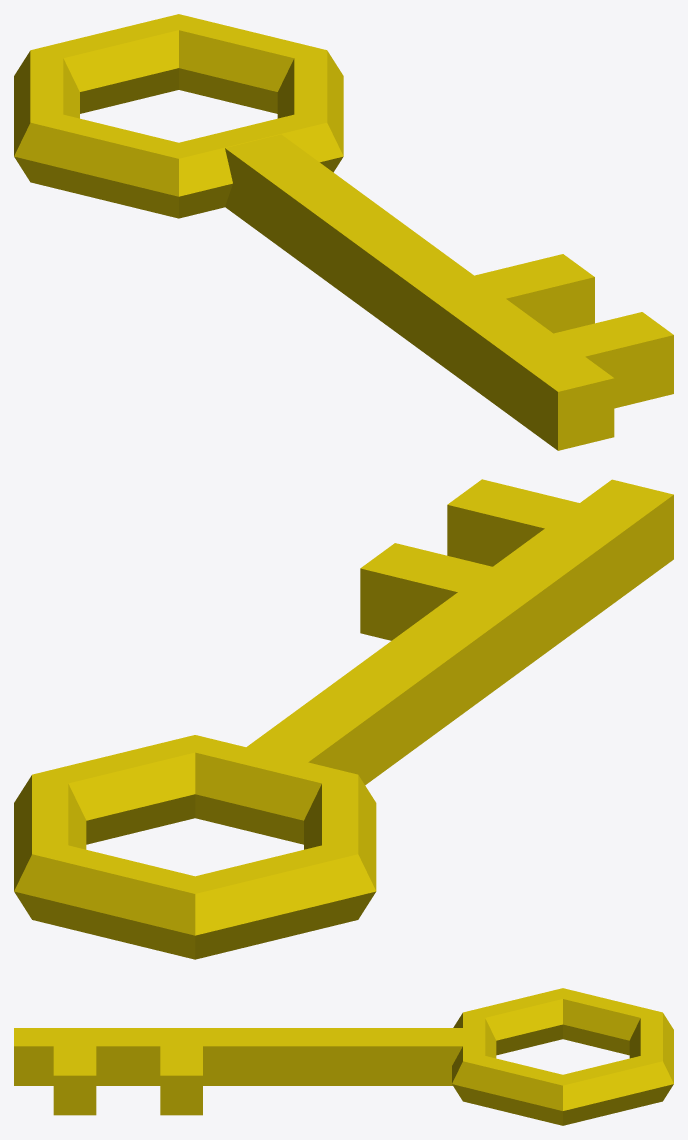
Rendered from klucz.glb.
3 views of the same model, one above another, from view 1: azimuth 30°, elevation 25°; view 2: azimuth 150°, elevation 25°; view 3: azimuth 270°, elevation 25° (orthographic). The views are drawn at different scales.
Visible parts, largest first — view 1: Torus; view 2: Torus; view 3: Torus.
Boxes of the visible parts, <box> form: Torus: <box>14,14,673,450</box>; Torus: <box>14,479,673,959</box>; Torus: <box>14,988,673,1125</box>.
Size of the model in its own units: 2.5 by 0.433 by 6.43.
